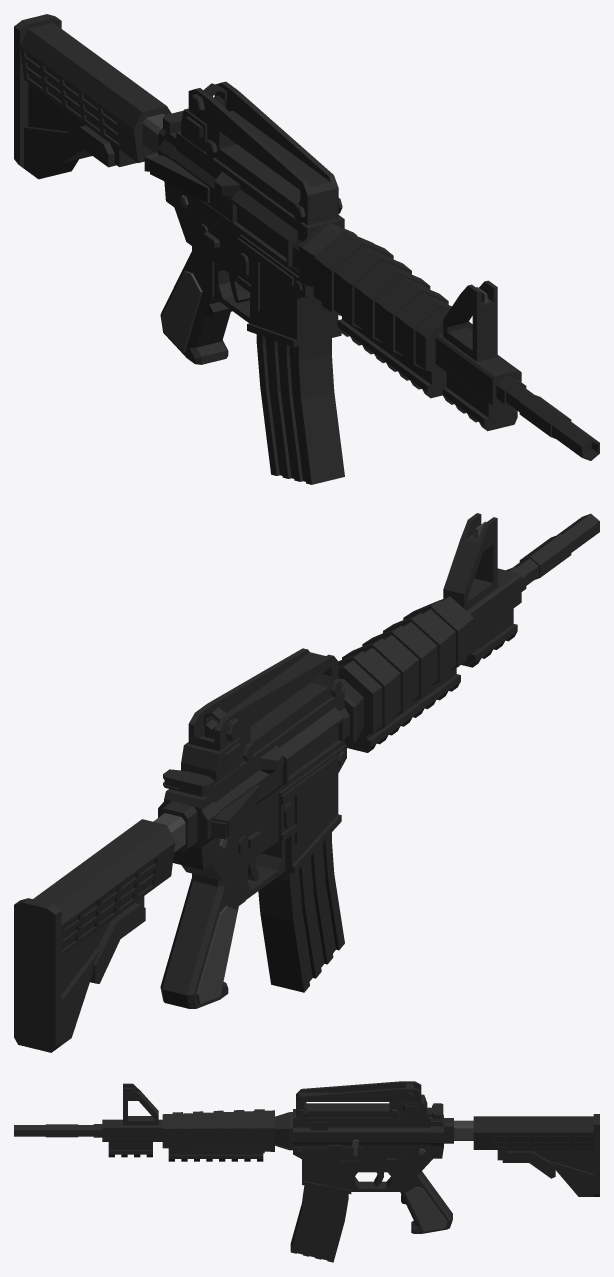
3 views of the same model, one above another, from view 1: azimuth 30°, elevation 25°; view 2: azimuth 150°, elevation 25°; view 3: azimuth 270°, elevation 25° (orthographic). The views are drawn at different scales.
Parts seen in each view (by area): view 1: AR_A_Stock, AR_N_BarrelGuard, AR_A_Receiver_Down, AR_A_Sight, AR_A_Barrel, AR_A_Mag, AR_A_Receiver_Up, AR_A_Grip, AR_A_BarrelGuard_Rail; view 2: AR_A_Stock, AR_A_Receiver_Down, AR_N_BarrelGuard, AR_A_Sight, AR_A_Barrel, AR_A_Mag, AR_A_Grip, AR_A_Receiver_Up, AR_A_BarrelGuard_Rail, AR_N_Bolt; view 3: AR_A_Stock, AR_A_Receiver_Down, AR_N_BarrelGuard, AR_A_Sight, AR_A_Receiver_Up, AR_A_Barrel, AR_A_Mag, AR_A_Grip, AR_A_BarrelGuard_Rail, AR_N_Bolt.
Part boxes in pixels (bbox=[...]): AR_A_Stock: bbox=[14, 14, 171, 179]; AR_N_BarrelGuard: bbox=[299, 221, 472, 378]; AR_A_Receiver_Down: bbox=[142, 113, 341, 347]; AR_A_Sight: bbox=[181, 81, 342, 225]; AR_A_Barrel: bbox=[435, 280, 599, 460]; AR_A_Mag: bbox=[256, 334, 344, 484]; AR_A_Receiver_Up: bbox=[144, 131, 344, 276]; AR_A_Grip: bbox=[160, 246, 232, 364]; AR_A_BarrelGuard_Rail: bbox=[337, 319, 446, 398]; AR_A_Stock: bbox=[14, 819, 175, 1052]; AR_A_Receiver_Down: bbox=[153, 745, 346, 899]; AR_N_BarrelGuard: bbox=[338, 596, 474, 746]; AR_A_Sight: bbox=[181, 648, 342, 783]; AR_A_Barrel: bbox=[443, 513, 599, 667]; AR_A_Mag: bbox=[258, 832, 344, 992]; AR_A_Grip: bbox=[160, 865, 245, 1008]; AR_A_Receiver_Up: bbox=[211, 689, 349, 840]; AR_A_BarrelGuard_Rail: bbox=[347, 668, 460, 752]; AR_N_Bolt: bbox=[163, 769, 215, 796]; AR_A_Stock: bbox=[473, 1114, 599, 1196]; AR_A_Receiver_Down: bbox=[293, 1115, 473, 1194]; AR_N_BarrelGuard: bbox=[162, 1109, 292, 1153]; AR_A_Sight: bbox=[296, 1081, 427, 1118]; AR_A_Receiver_Up: bbox=[293, 1109, 430, 1146]; AR_A_Barrel: bbox=[14, 1083, 162, 1157]; AR_A_Mag: bbox=[290, 1185, 348, 1262]; AR_A_Grip: bbox=[395, 1171, 452, 1233]; AR_A_BarrelGuard_Rail: bbox=[168, 1147, 263, 1161]; AR_N_Bolt: bbox=[427, 1103, 443, 1120].
Size of the model in its own units: 0.3466 by 1.53 by 4.64.
1 material, 1 textured.
